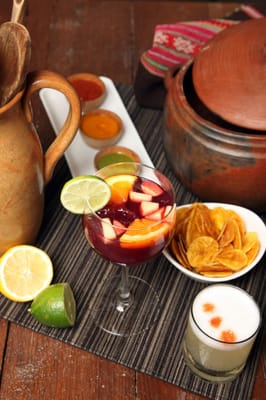sushi: (166, 203, 265, 284)
taco: (0, 244, 55, 303)
